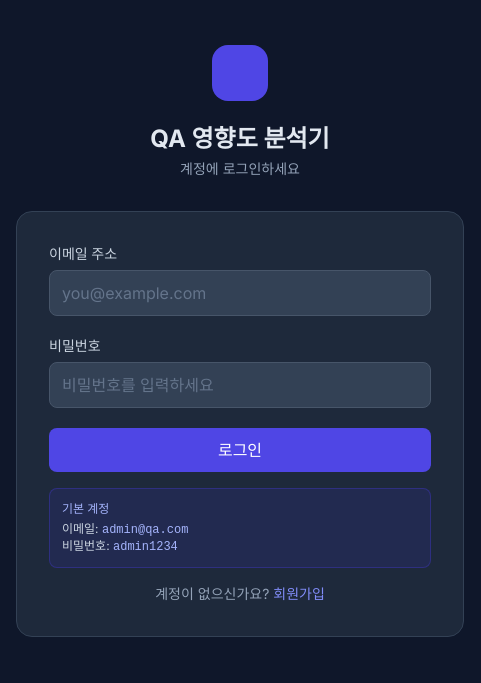
C10 — LoginPage › API failure (401) → inline error-message shown
In the field with test id "email-input": (240, 293) [49, 270, 431, 316], type "admin@qa.com"
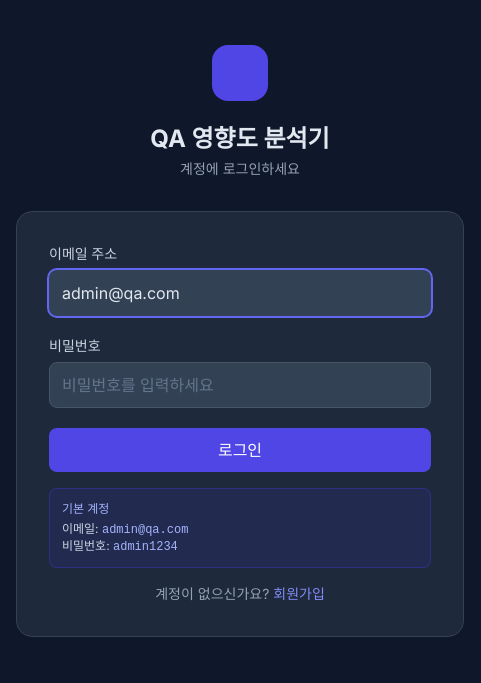
In the password field with test id "password-input": (240, 385) [49, 362, 431, 408], type "wrongpassword"
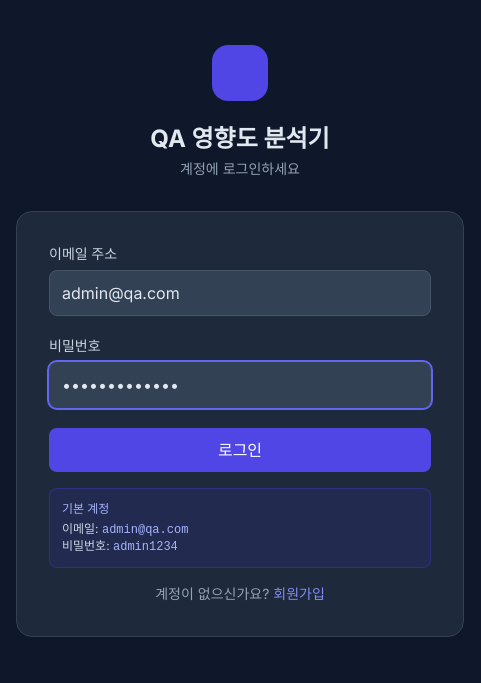
Click the button with test id "login-btn": (240, 450) [49, 428, 431, 472]
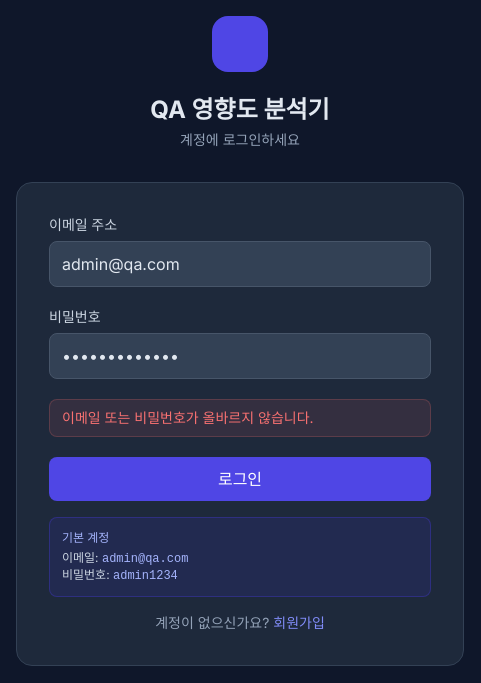
Expected: the message "이메일 또는 비밀번호가 올바르지 않습니다." is shown, [49, 399, 431, 437]
Expected: the message with test id "error-message" shows "이메일 또는 비밀번호", [62, 409, 314, 426]
